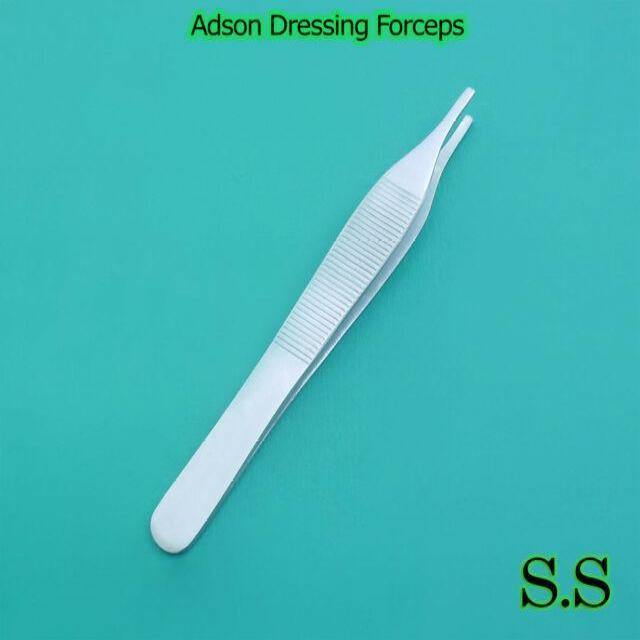Forceps: (144, 80, 483, 559)
